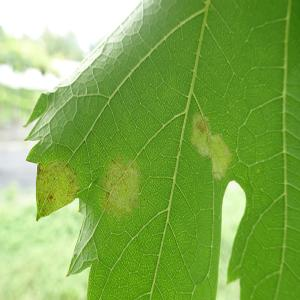Folha: (23, 0, 299, 299)
Fungo: (35, 158, 82, 222), (190, 111, 232, 181), (100, 155, 142, 221), (208, 131, 232, 181), (190, 112, 212, 160), (196, 121, 206, 134), (49, 194, 53, 199)
